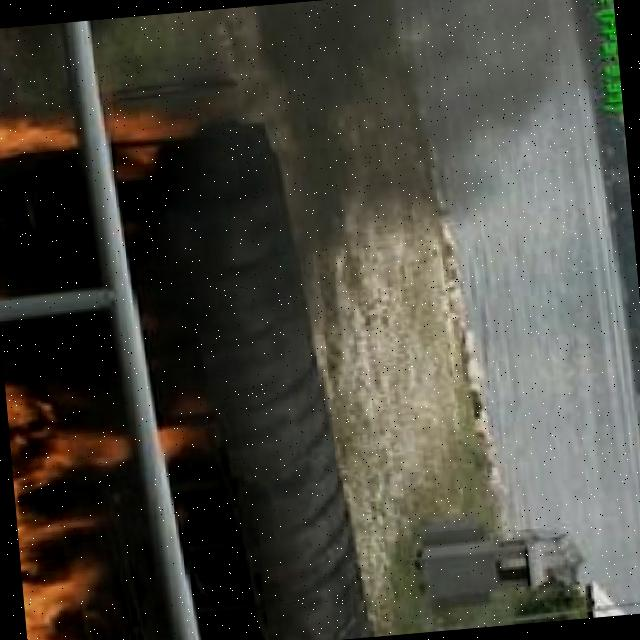fire: (3, 368, 119, 640), (0, 88, 199, 214), (160, 385, 220, 480)
